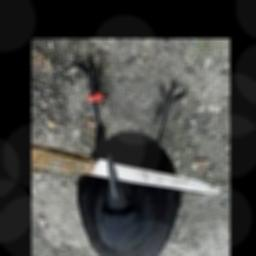Crow: (72, 56, 189, 256)
